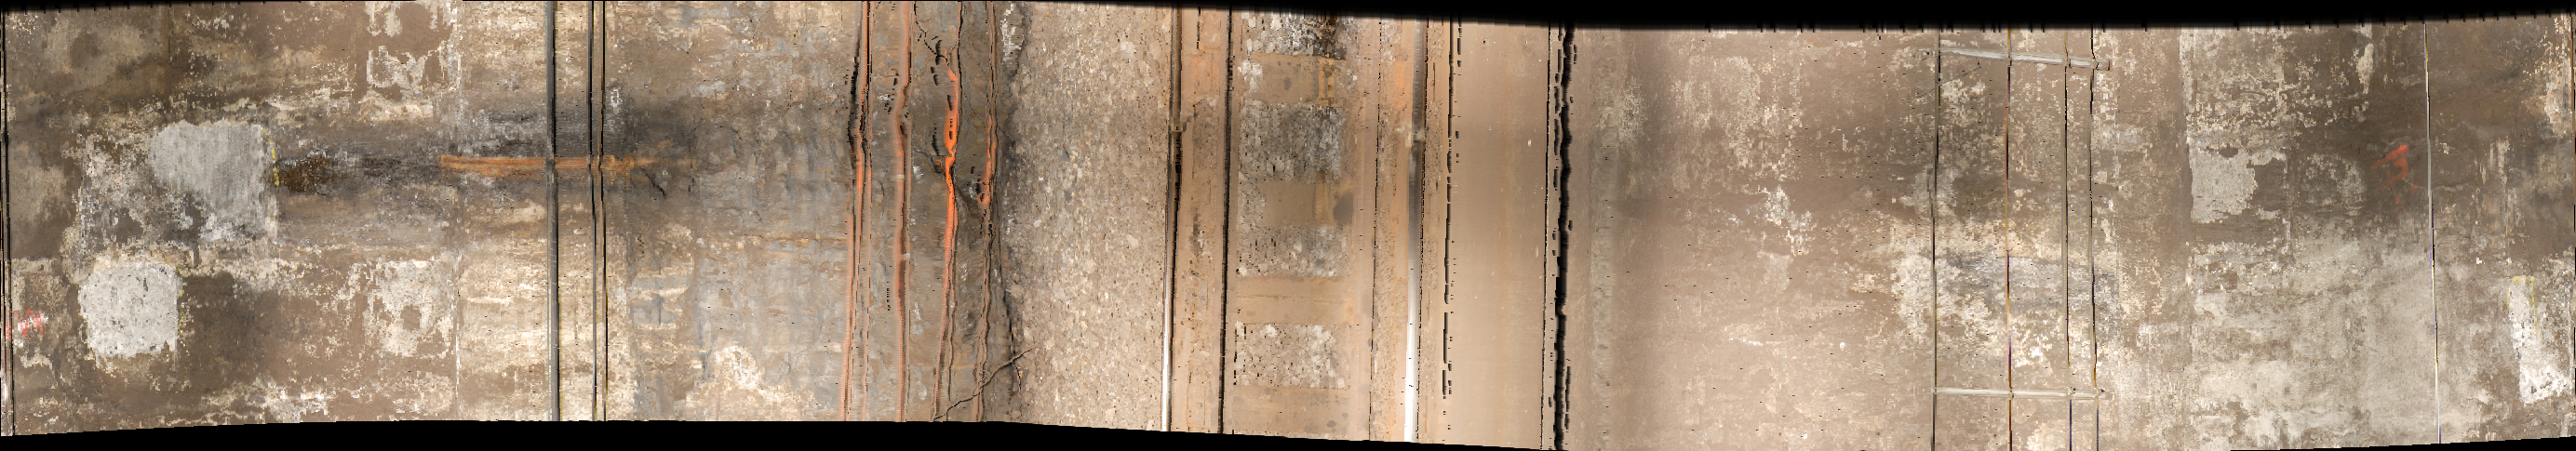pipes: (1925, 36, 2105, 451), (851, 2, 1005, 430), (542, 2, 618, 451), (2412, 11, 2441, 436)
tracks: (1163, 20, 1456, 451)
